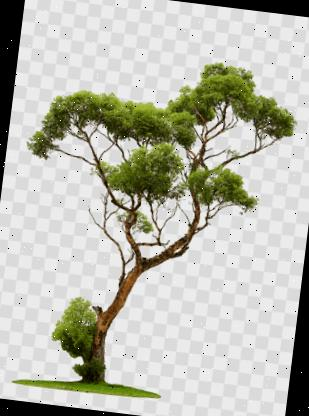tree: (0, 31, 306, 416)
